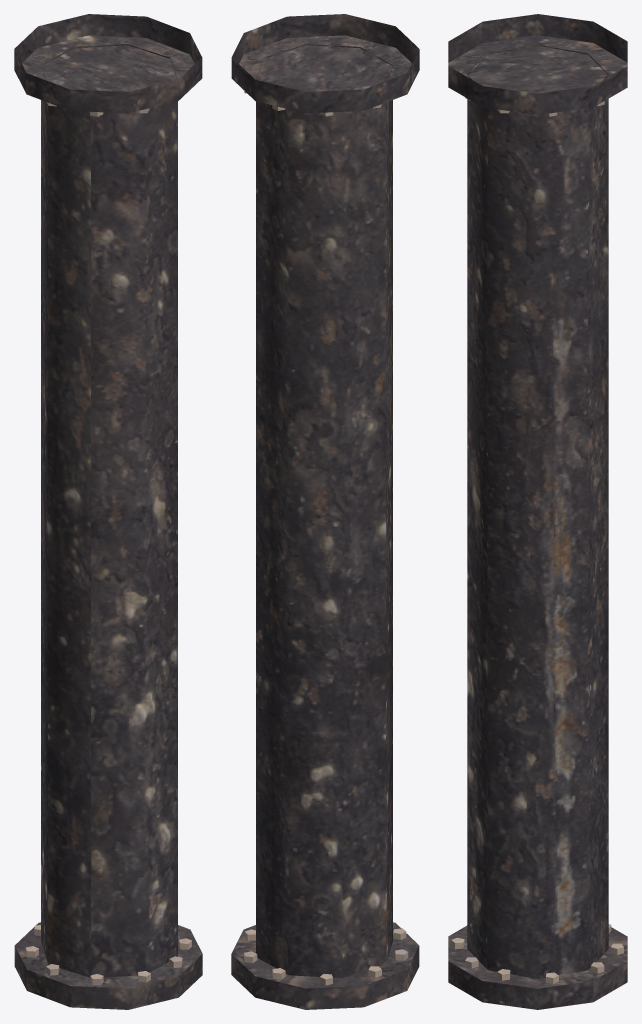
Rendered from valurautaputki.FBX.
The picture shows the model from 3 angles, left to right: view 1: azimuth 30°, elevation 25°; view 2: azimuth 150°, elevation 25°; view 3: azimuth 270°, elevation 25°; orthographic projection.
Parts seen in each view (by area): view 1: putki1; view 2: putki1; view 3: putki1.
Boxes of the visible parts, x1,y1,x2,y2 form: putki1: (14, 14, 202, 1009); putki1: (231, 14, 419, 1009); putki1: (448, 14, 627, 1009).
Size of the model in its own units: 31.56 by 169 by 30.
1 material, 1 textured.
